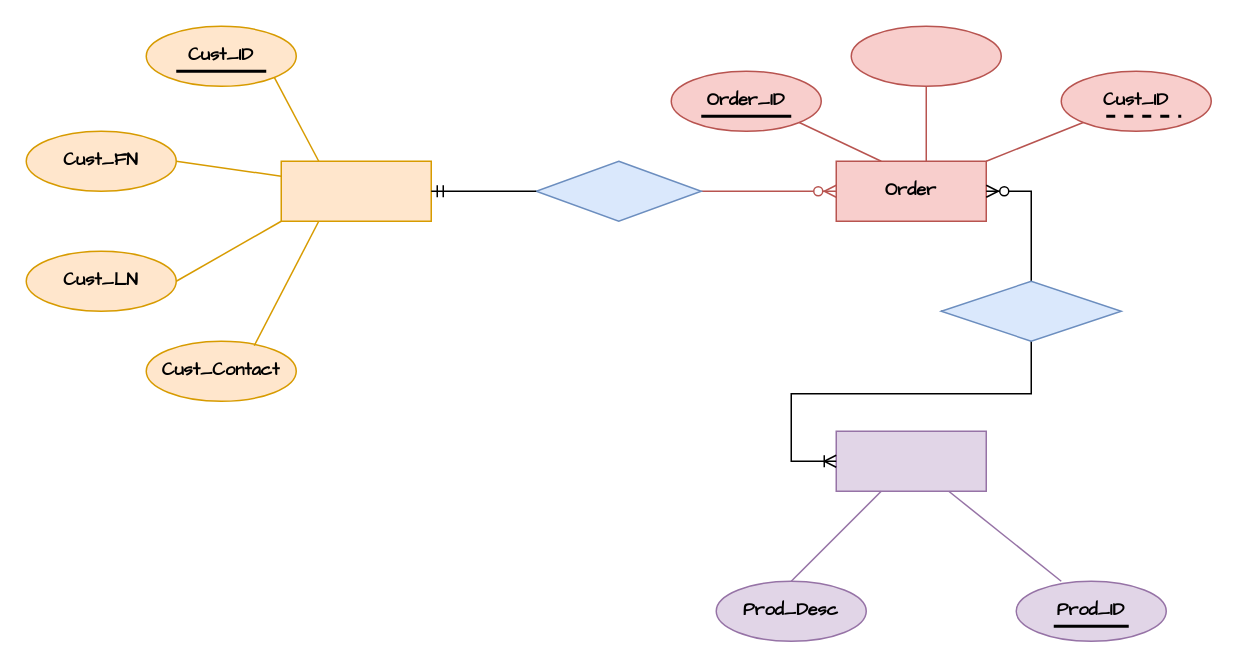
This 1238x668 diagram has some shape labels left out. Each missing label, with the box of its shape:
Customer: (280, 160, 431, 221)
List: (940, 280, 1121, 341)
Order_Date: (850, 25, 1001, 86)
Product: (835, 430, 986, 491)
Submit: (535, 160, 701, 221)
